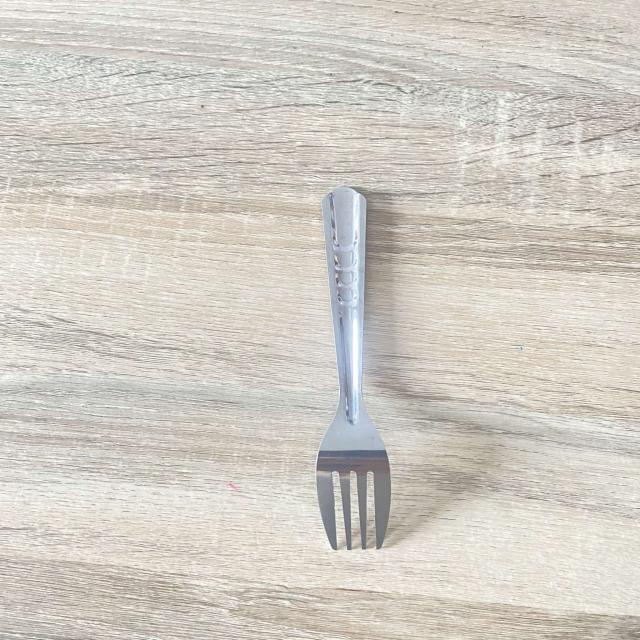fork: (272, 186, 426, 562)
